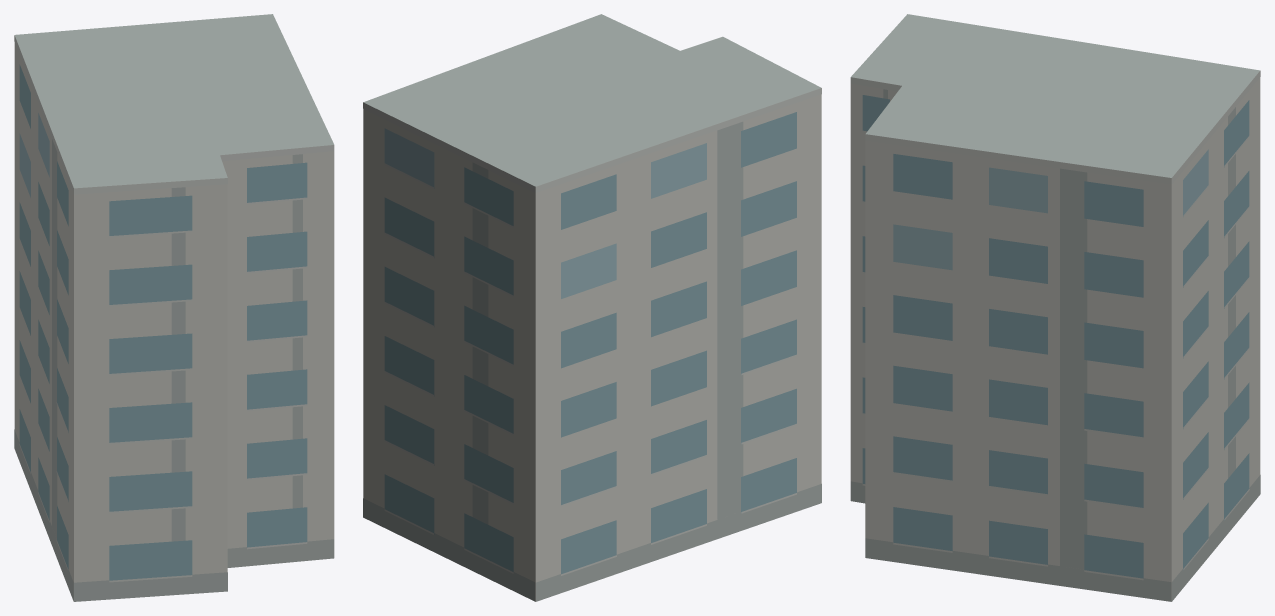
The model's file is survey-upis-32891794.glb.
The picture shows the model from 3 angles, left to right: view 1: azimuth 30°, elevation 25°; view 2: azimuth 150°, elevation 25°; view 3: azimuth 270°, elevation 25°; orthographic projection. The views are drawn at different scales.
Parts seen in each view (by area): view 1: survey-upis-32891794.tmp; view 2: survey-upis-32891794.tmp; view 3: survey-upis-32891794.tmp.
Part boxes in pixels (left/top/right/bottom): survey-upis-32891794.tmp: left=14, top=14, right=334, bottom=601; survey-upis-32891794.tmp: left=363, top=14, right=821, bottom=601; survey-upis-32891794.tmp: left=850, top=14, right=1260, bottom=601.
Size of the model in its own units: 13.04 by 15.7 by 13.77.
